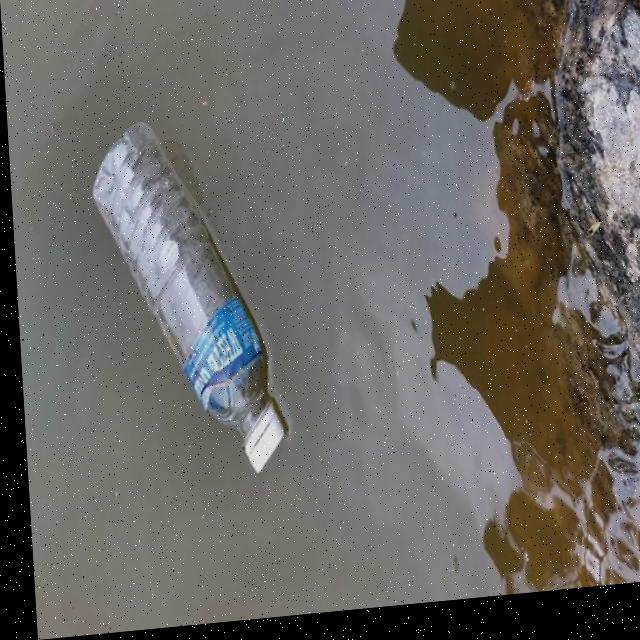waterbottle: (87, 113, 297, 496)
